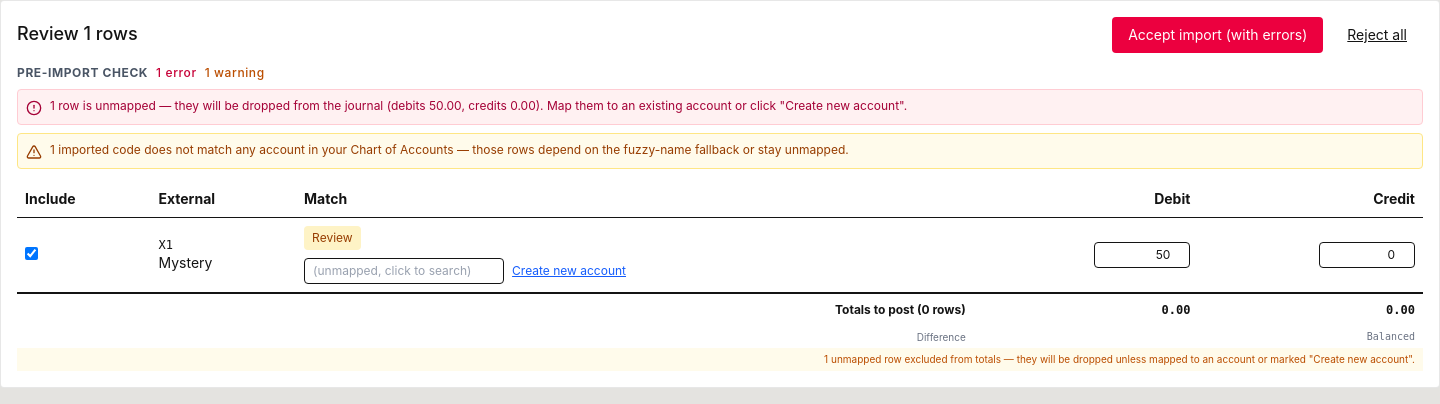
Test case: ImportReviewPane (IMP-03) › archived accounts hidden from AccountPicker results
The width and height of the screenshot is (1440, 404).
Open the picker — the popover lists every non-archived account.
Click the button with test id "pick-account-0-trigger".
click(404, 271)  # box [304,258,504,284]
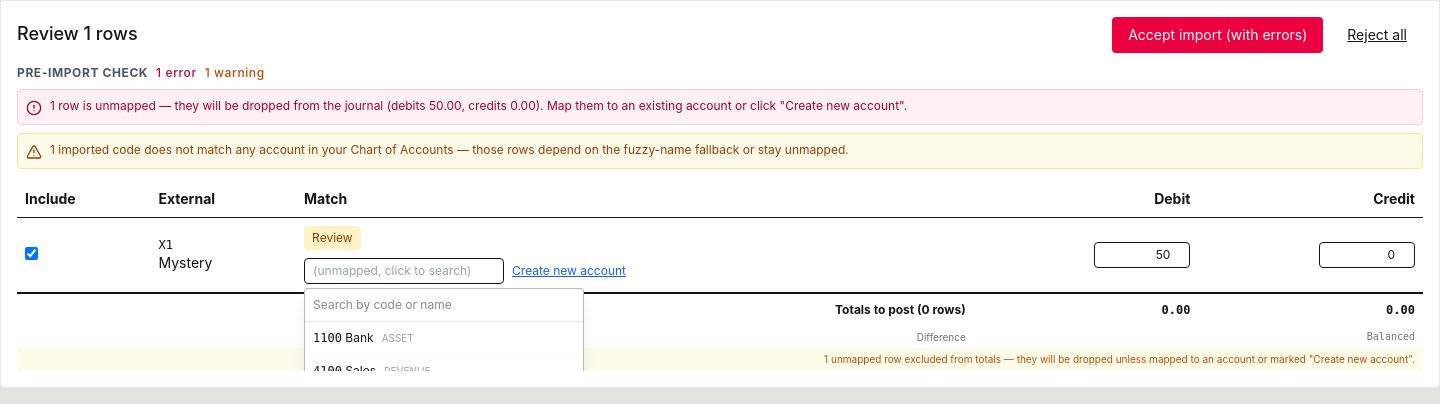
Now the element with test id "pick-account-0-popover" is shown, box [304,288,584,371]
